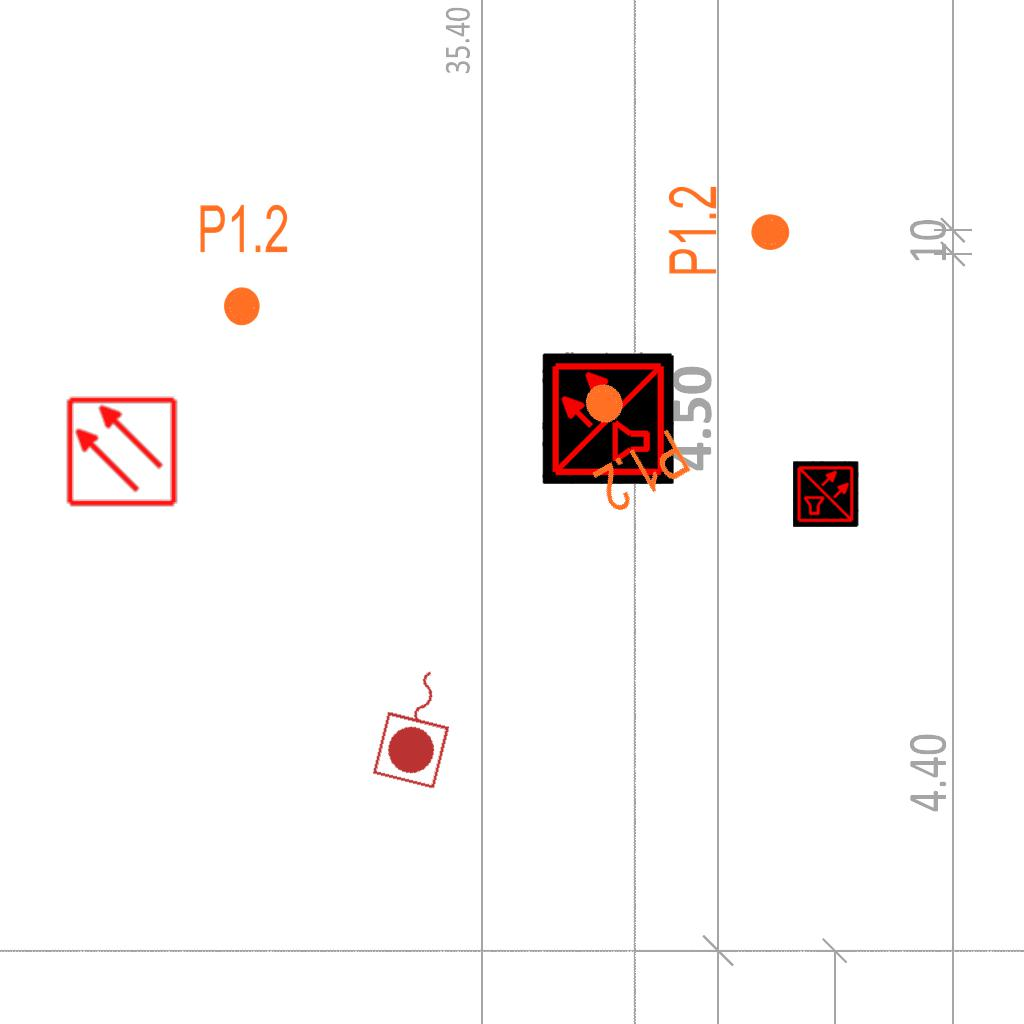Downlight_LED_Einbauleuchten_Flur: (551, 361, 696, 519), (197, 201, 290, 329), (665, 184, 793, 277)
OKW_Multisensormelder_(Kombination_optischer_Rauch-Kahlenmonoxid_Waerme-Melder): (542, 352, 674, 484), (793, 461, 859, 527)
RMO_Rauchmelder_optischer: (65, 395, 178, 508)
Zugtaster: (368, 658, 468, 794)
